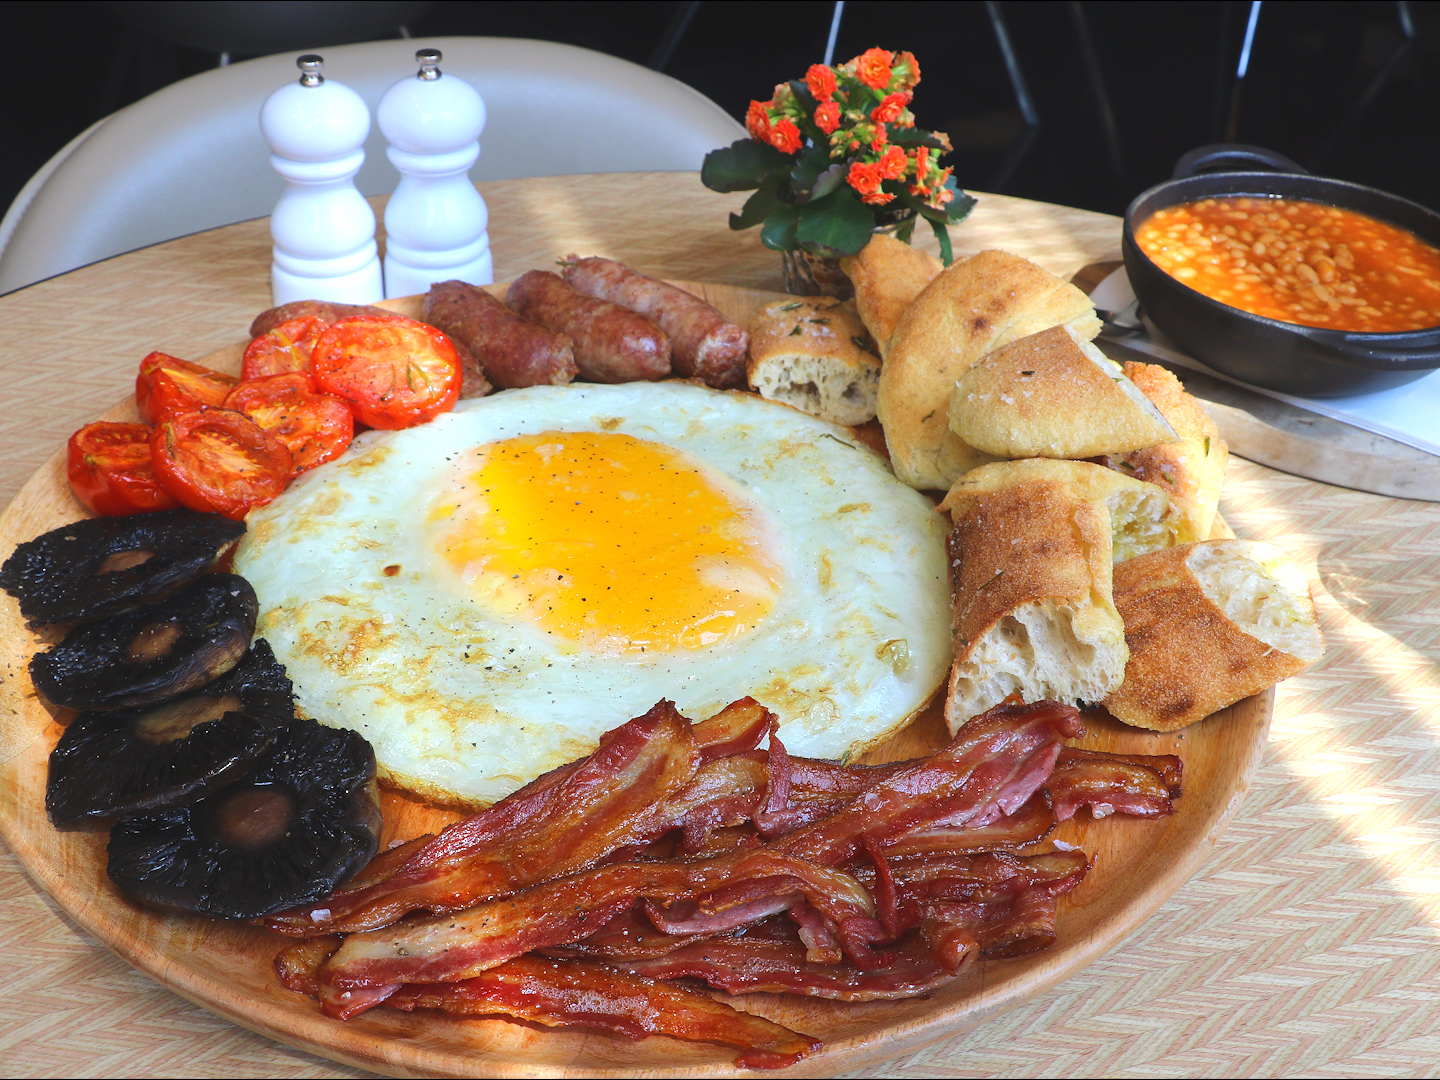fried egg: (310, 405, 901, 756)
slice of bread: (940, 493, 1119, 703), (906, 261, 1068, 472), (1123, 547, 1330, 700), (959, 334, 1147, 457), (747, 313, 899, 419), (1129, 378, 1237, 511)
